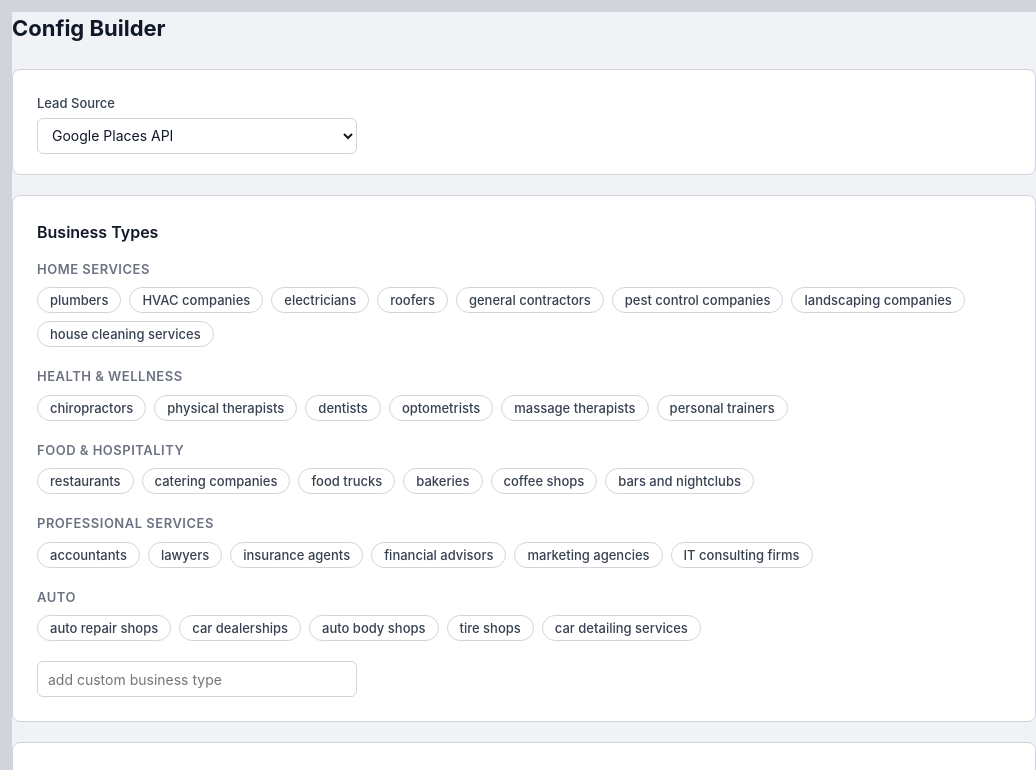
Test: ConfigBuilder - custom business type › adds a custom business type via free-text input
Type "wedding photographers" into the field with placeholder "add custom business type".
click(197, 679); type("wedding photographers")  # box [37,661,357,697]
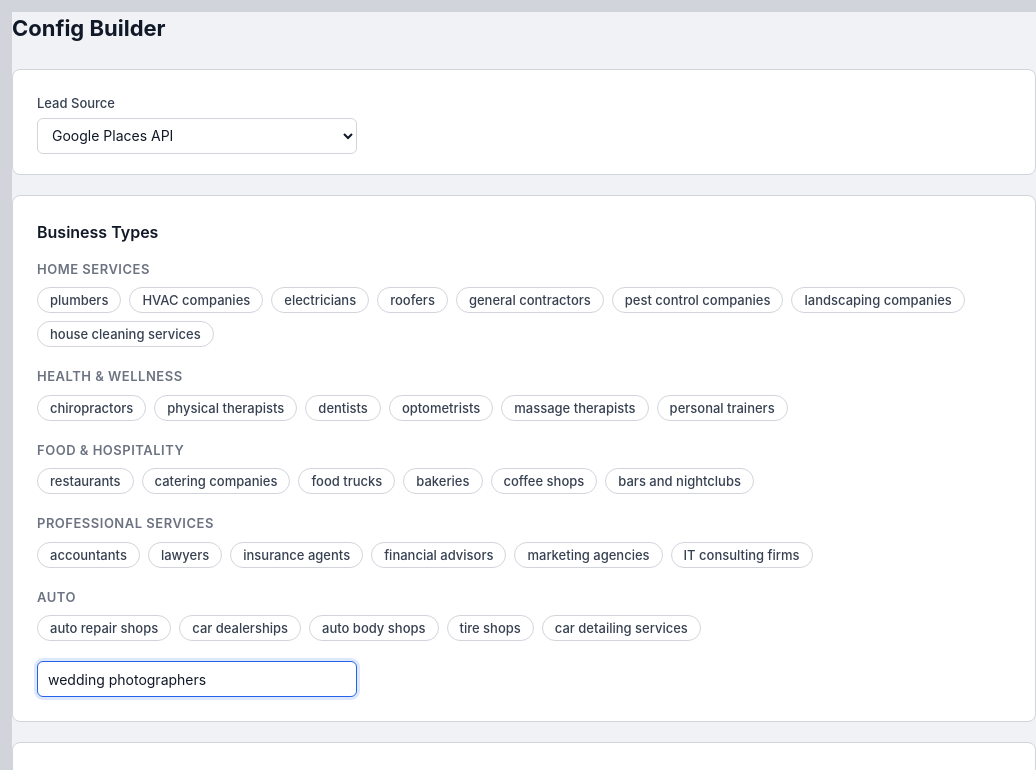
Press Enter
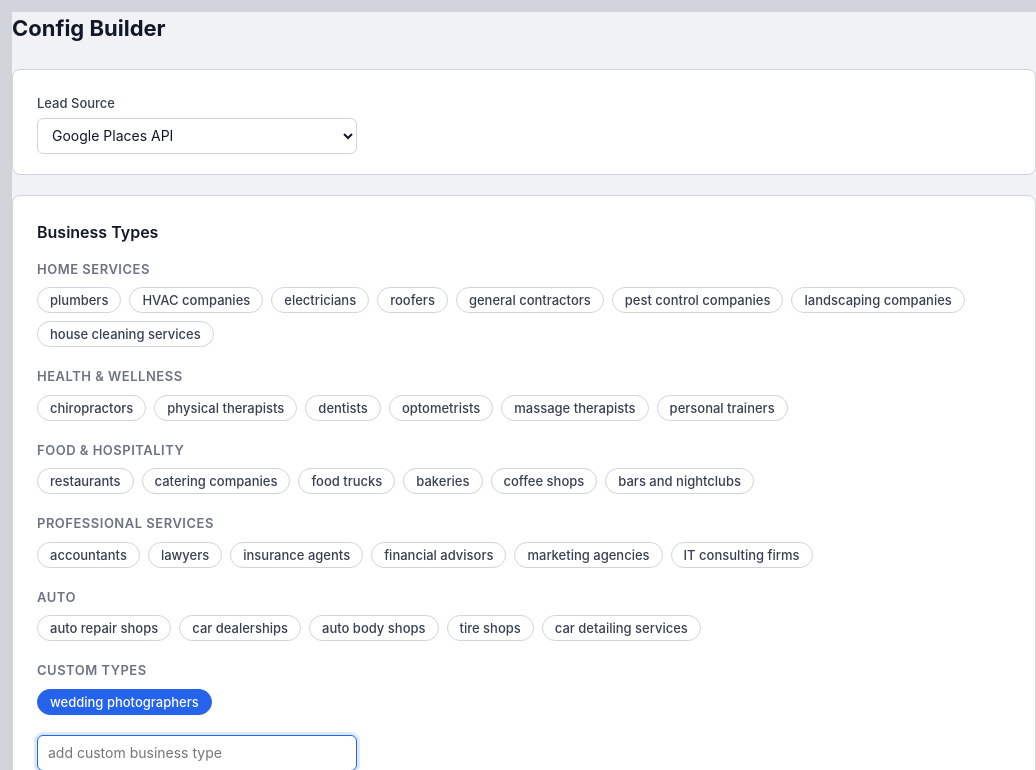
Now the checkbox labelled "wedding photographers" is checked, box [37,688,212,714]
